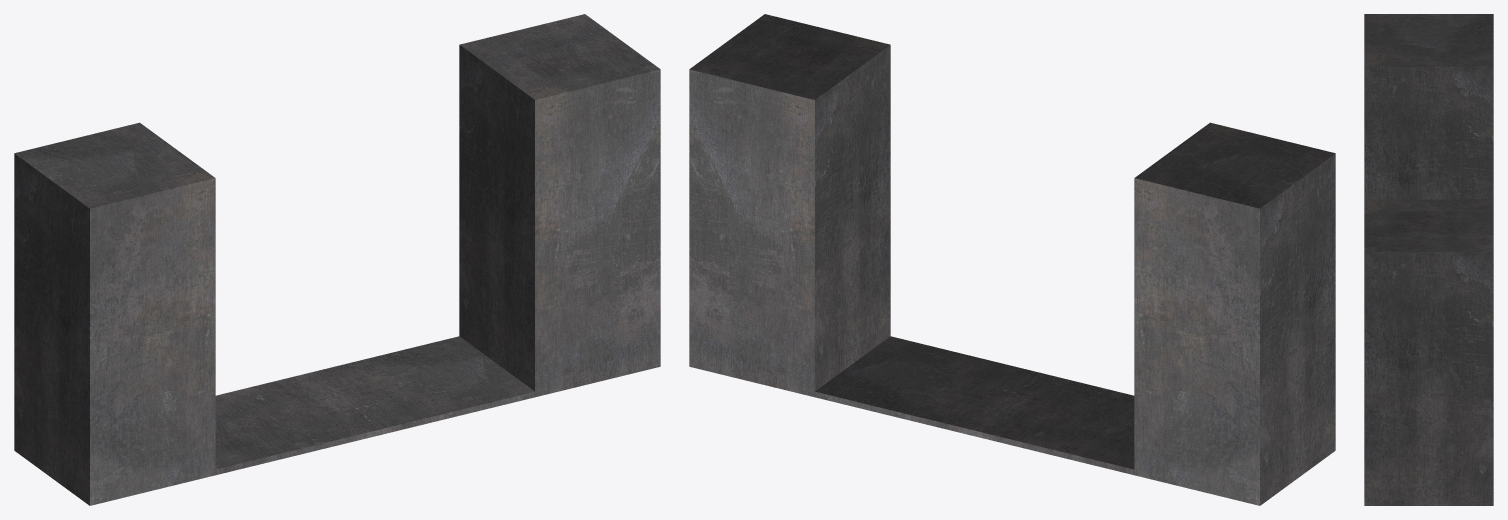
Rendered from DoorColl.fbx.
The picture shows the model from 3 angles, left to right: view 1: azimuth 30°, elevation 25°; view 2: azimuth 150°, elevation 25°; view 3: azimuth 270°, elevation 25°; orthographic projection. The views are drawn at different scales.
Parts seen in each view (by area): view 1: Scene_Root; view 2: Scene_Root; view 3: Scene_Root.
Part boxes in pixels (x1,y1,x2,y2): Scene_Root: (14, 14, 660, 505); Scene_Root: (689, 14, 1335, 505); Scene_Root: (1364, 14, 1493, 505).
Bounding box in the file's own units: 836 × 416 × 192.
